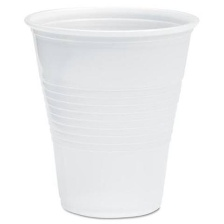glass: (21, 1, 198, 224)
